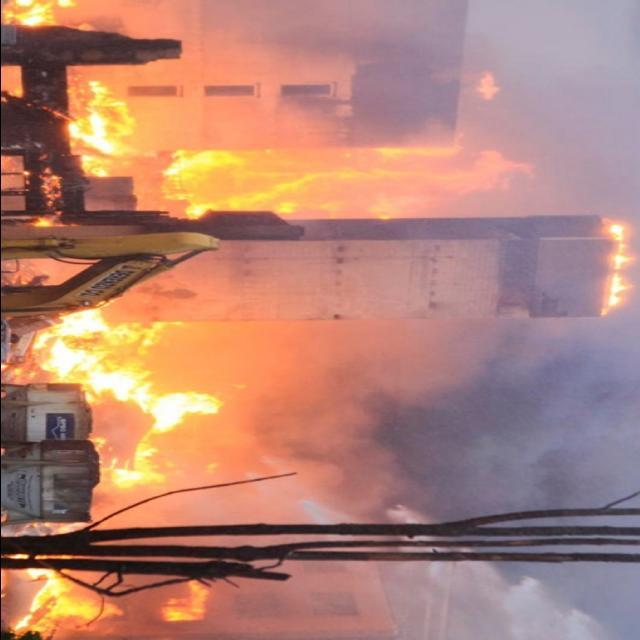Fire: (5, 32, 539, 640), (594, 211, 632, 329)
